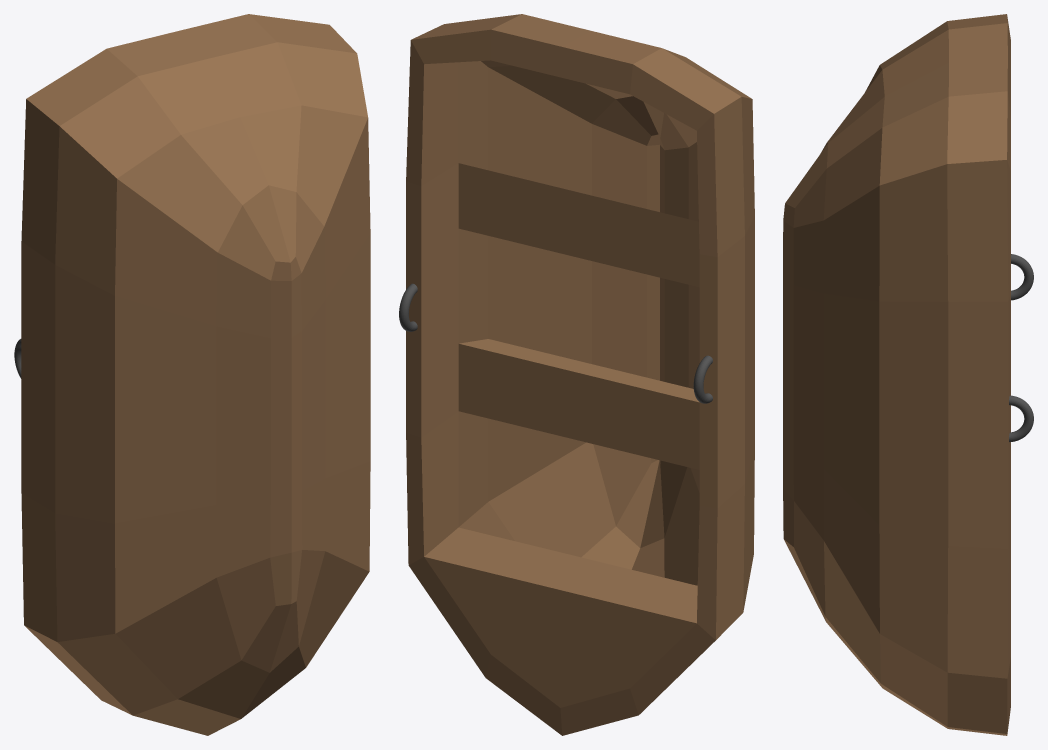
Rendered from Boat.fbx.
The picture shows the model from 3 angles, left to right: view 1: azimuth 30°, elevation 25°; view 2: azimuth 150°, elevation 25°; view 3: azimuth 270°, elevation 25°; orthographic projection.
Visible parts, largest first — view 1: Boat; view 2: Boat; view 3: Boat, Right Oar Holder, Left Oar Holder.
Boxes of the visible parts, <box> form: Boat: <box>21,14,370,735</box>; Boat: <box>406,14,754,735</box>; Boat: <box>783,14,1010,735</box>; Right Oar Holder: <box>1009,395,1033,442</box>; Left Oar Holder: <box>1011,254,1033,300</box>.
Bounding box in the file's own units: 1148 × 2426 × 813.
Materials: 3 (3 with a texture image).
